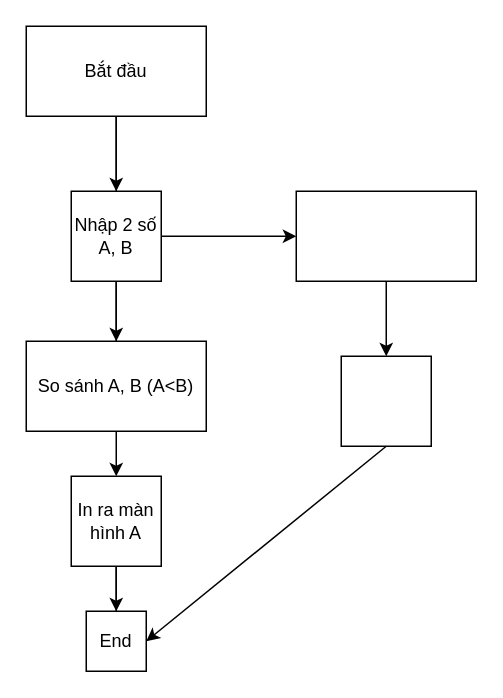
Image size: 503x698. Some labels were removed from this diagram. Each missing label, with the centre of its shape:
"In ra màn hình B" belongs at point 385,400.
"So sánh A, B (A>B)" belongs at point 385,235.
